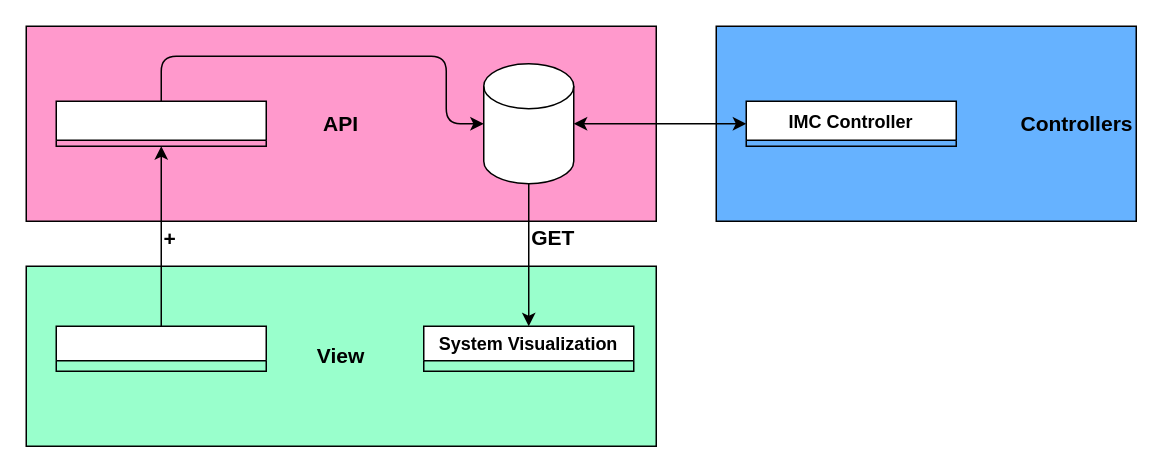
This 1163x473 diagram has some shape labels left out. Here are the shapes that lost their labels. From the top down, the centre of each, then its label:
the point at 160,123: Patient
the point at 528,123: Patient DB
the point at 160,348: Form POST
